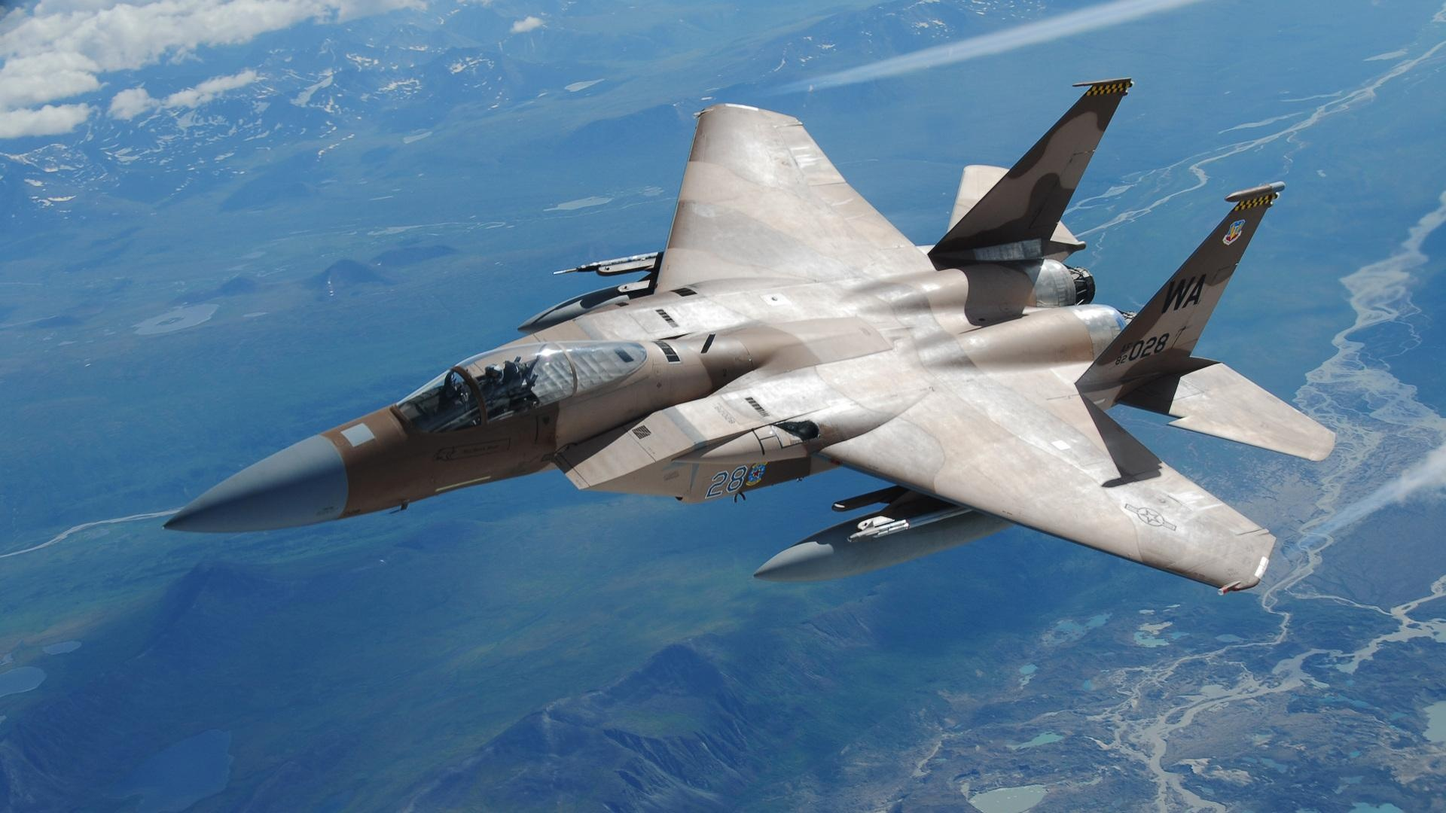aircraft: (102, 79, 1341, 606)
